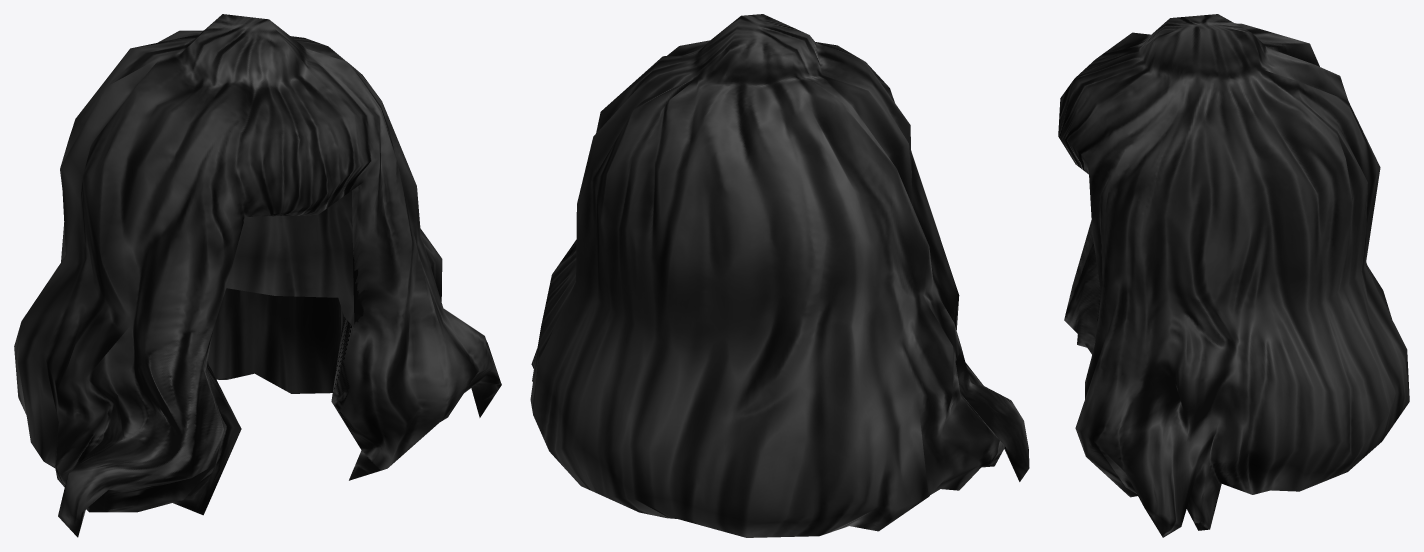
The model's file is AF_M_hair_G_11.fbx.
The picture shows the model from 3 angles, left to right: view 1: azimuth 30°, elevation 25°; view 2: azimuth 150°, elevation 25°; view 3: azimuth 270°, elevation 25°; orthographic projection. The views are drawn at different scales.
Visible parts, largest first — view 1: AF_M_hair_G_11; view 2: AF_M_hair_G_11; view 3: AF_M_hair_G_11.
Part boxes in pixels (x1,y1,x2,y2): AF_M_hair_G_11: [14, 14, 501, 537]; AF_M_hair_G_11: [530, 14, 1029, 537]; AF_M_hair_G_11: [1058, 14, 1409, 537].
Size of the model in its own units: 1301 by 1221 by 887.
